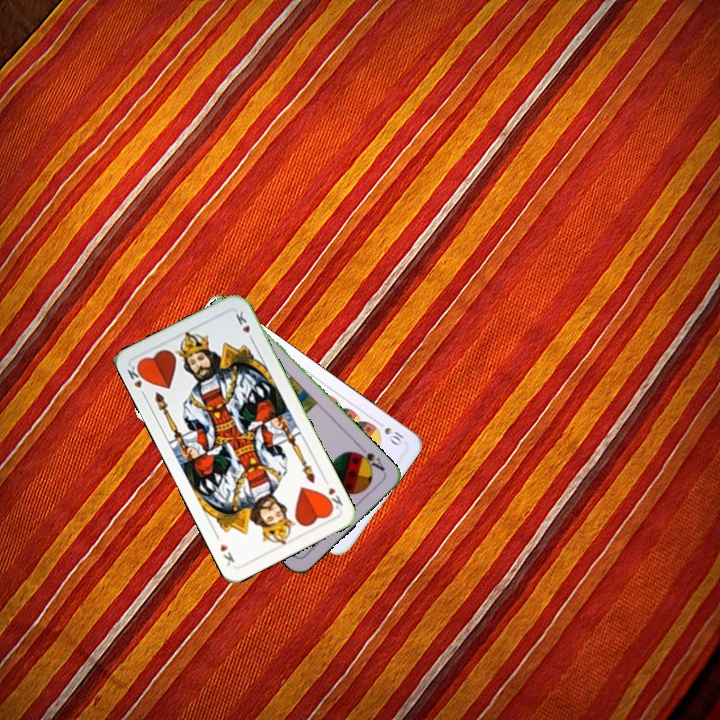HK: (123, 360, 149, 400), (319, 474, 345, 513)
S10: (372, 417, 406, 448)
SA: (351, 442, 387, 474)
